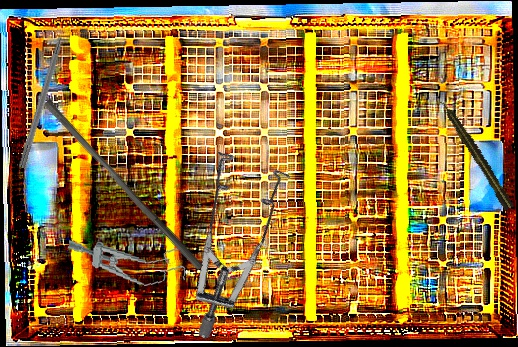Handpiece: (437, 97, 515, 212)
Hook Surgical: (17, 20, 72, 169)
Pusher: (38, 98, 210, 271)
Speculum: (116, 127, 335, 342), (64, 230, 191, 292)
